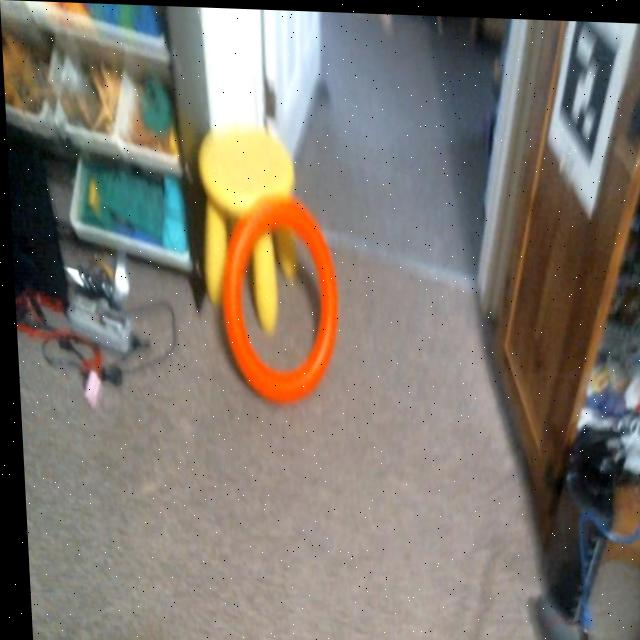note: (212, 188, 345, 406)
